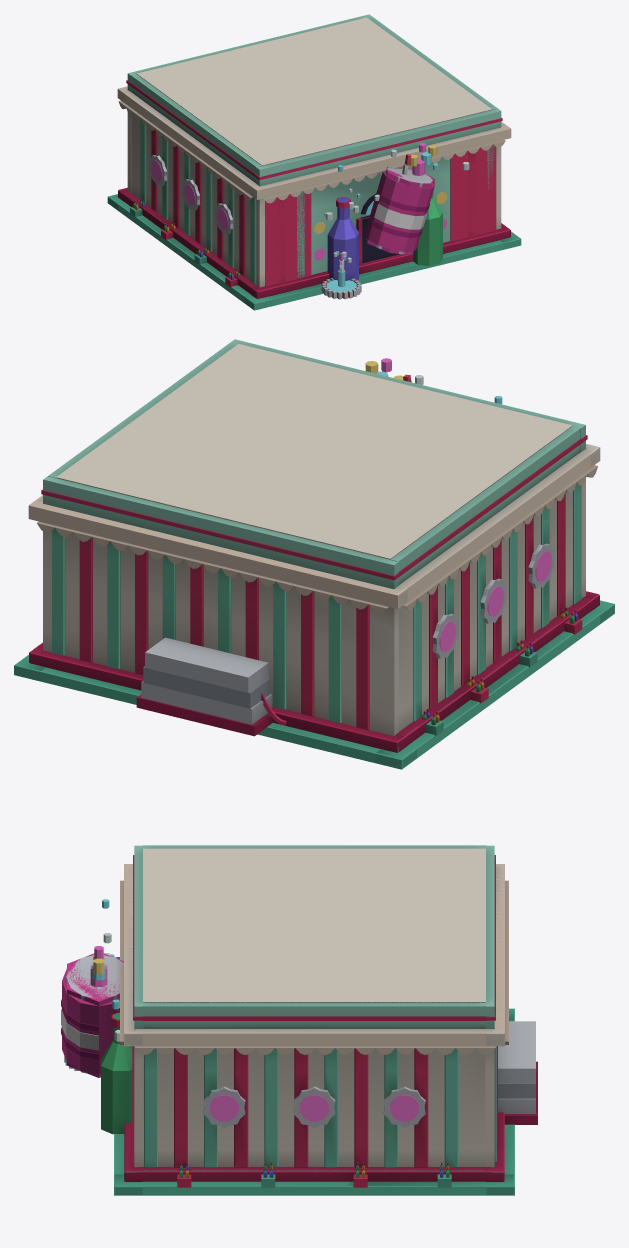
File: MagicSodaFloor.fbx
3 renders of one model, top to bottom at view 1: azimuth 30°, elevation 25°; view 2: azimuth 150°, elevation 25°; view 3: azimuth 270°, elevation 25°, orthographic. The views are drawn at different scales.
Parts seen in each view (by area): view 1: SD_S_All, SD_F_Rings, SD_F_Smooth, SD_F_Props, SD_F_Glass; view 2: SD_F_Rings, SD_S_All, SD_F_Smooth, SD_F_Glass, SD_F_Props; view 3: SD_F_Rings, SD_S_All, SD_F_Smooth, SD_F_Props, SD_F_Glass.
Part boxes in pixels (<box>): SD_S_All: <box>107,17,521,310</box>; SD_F_Rings: <box>109,14,520,303</box>; SD_F_Smooth: <box>108,80,520,309</box>; SD_F_Props: <box>130,167,442,297</box>; SD_F_Glass: <box>151,143,469,292</box>; SD_F_Rings: <box>16,339,612,759</box>; SD_S_All: <box>14,344,614,769</box>; SD_F_Smooth: <box>15,374,614,768</box>; SD_F_Glass: <box>365,358,551,652</box>; SD_F_Props: <box>419,619,582,735</box>; SD_F_Rings: <box>62,845,537,1185</box>; SD_S_All: <box>67,848,514,1195</box>; SD_F_Smooth: <box>64,855,514,1194</box>; SD_F_Props: <box>61,955,451,1187</box>; SD_F_Glass: <box>90,899,418,1121</box>.
Size of the model in its own units: 60 by 20 by 60.
